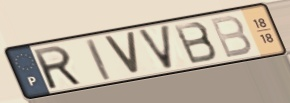B: (171, 20, 221, 66), (207, 14, 254, 60)
I: (83, 36, 114, 83)
R: (30, 44, 85, 92)
V: (135, 22, 176, 72), (101, 31, 142, 76)
